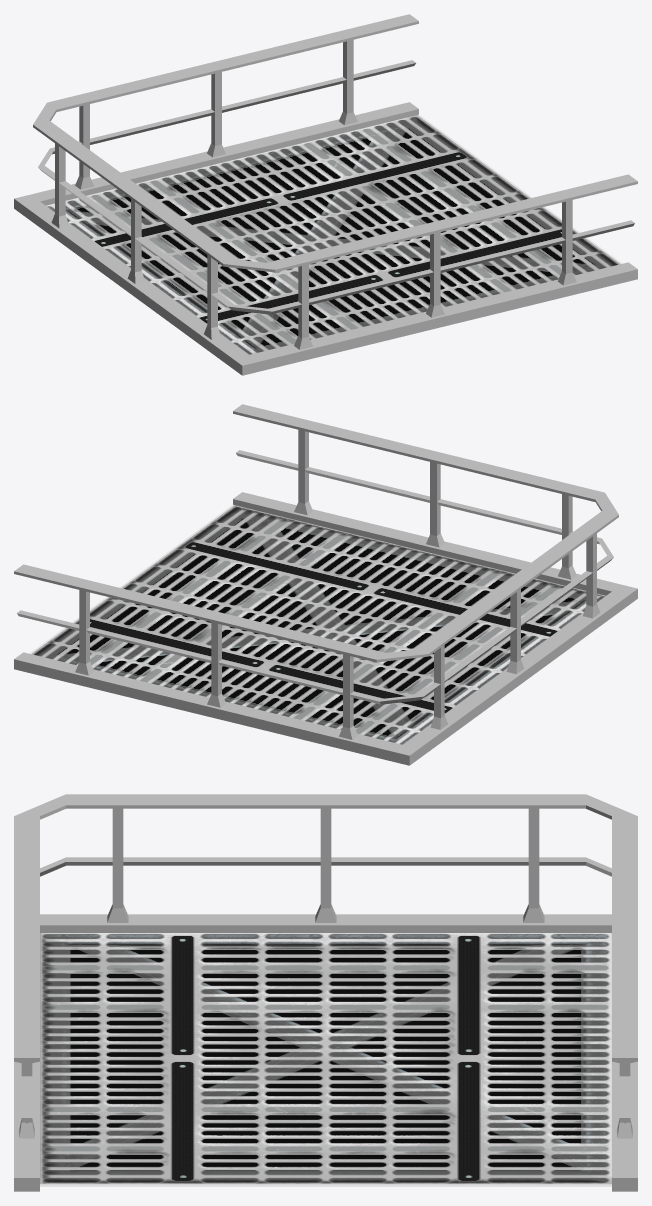
File: PlateForm_End_02.FBX
3 renders of one model, top to bottom at view 1: azimuth 30°, elevation 25°; view 2: azimuth 150°, elevation 25°; view 3: azimuth 270°, elevation 25°, orthographic. The views are drawn at different scales.
Visible parts, largest first — view 1: PlateForm_End_02; view 2: PlateForm_End_02; view 3: PlateForm_End_02.
Part boxes in pixels (<box>): PlateForm_End_02: <box>14,14,637,375</box>; PlateForm_End_02: <box>14,404,637,765</box>; PlateForm_End_02: <box>14,794,637,1191</box>.
Bounding box in the file's own units: 6 × 1.42 × 6.
